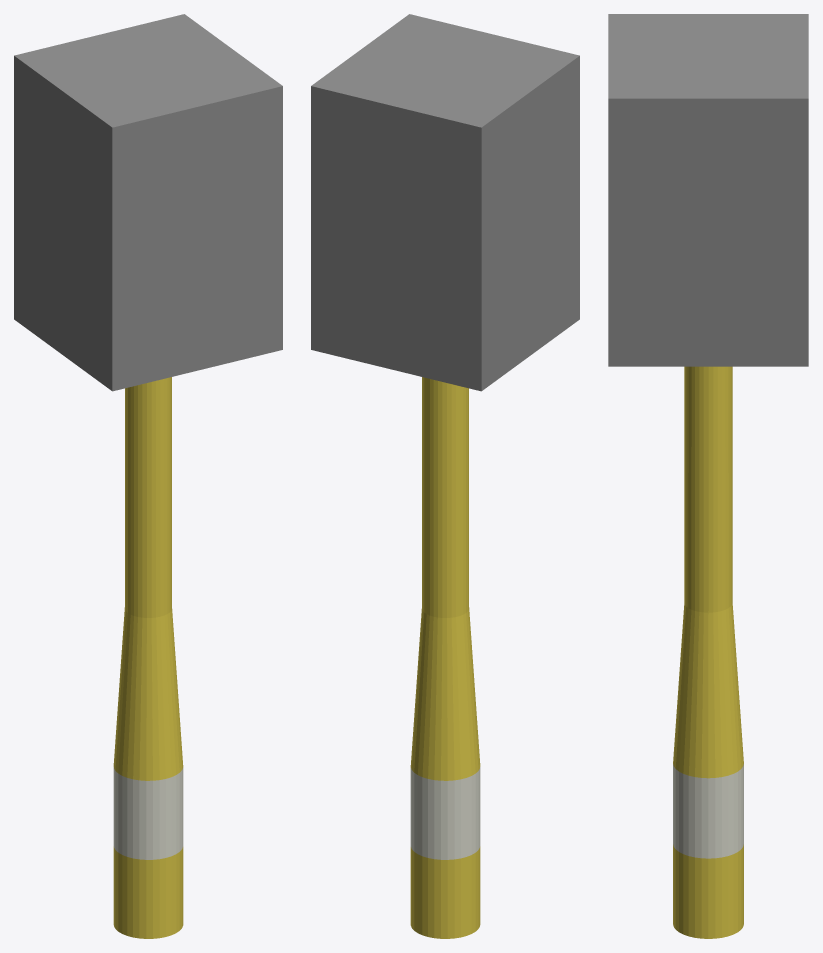
Rendered from toiletbrush 1.fbx.
3 views of the same model, side by side, from view 1: azimuth 30°, elevation 25°; view 2: azimuth 150°, elevation 25°; view 3: azimuth 270°, elevation 25° (orthographic).
Visible parts, largest first — view 1: Cube, Cylinder; view 2: Cube, Cylinder; view 3: Cube, Cylinder.
Part boxes in pixels (x1=…): Cube: x1=14, y1=14, x2=282, y2=391; Cylinder: x1=113, y1=377, x2=183, y2=938; Cube: x1=311, y1=14, x2=579, y2=391; Cylinder: x1=410, y1=377, x2=480, y2=938; Cube: x1=608, y1=14, x2=808, y2=366; Cylinder: x1=673, y1=366, x2=743, y2=938.
Bounding box in the file's own units: 113 × 540 × 113.
